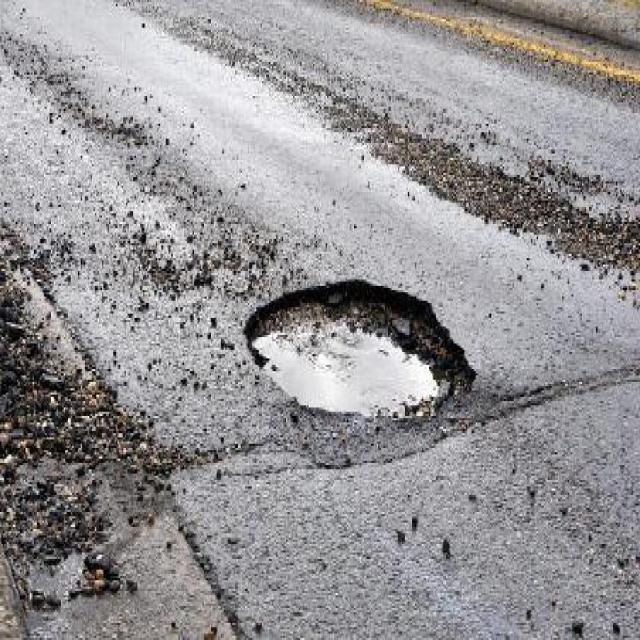Pothole: (241, 274, 481, 419)
